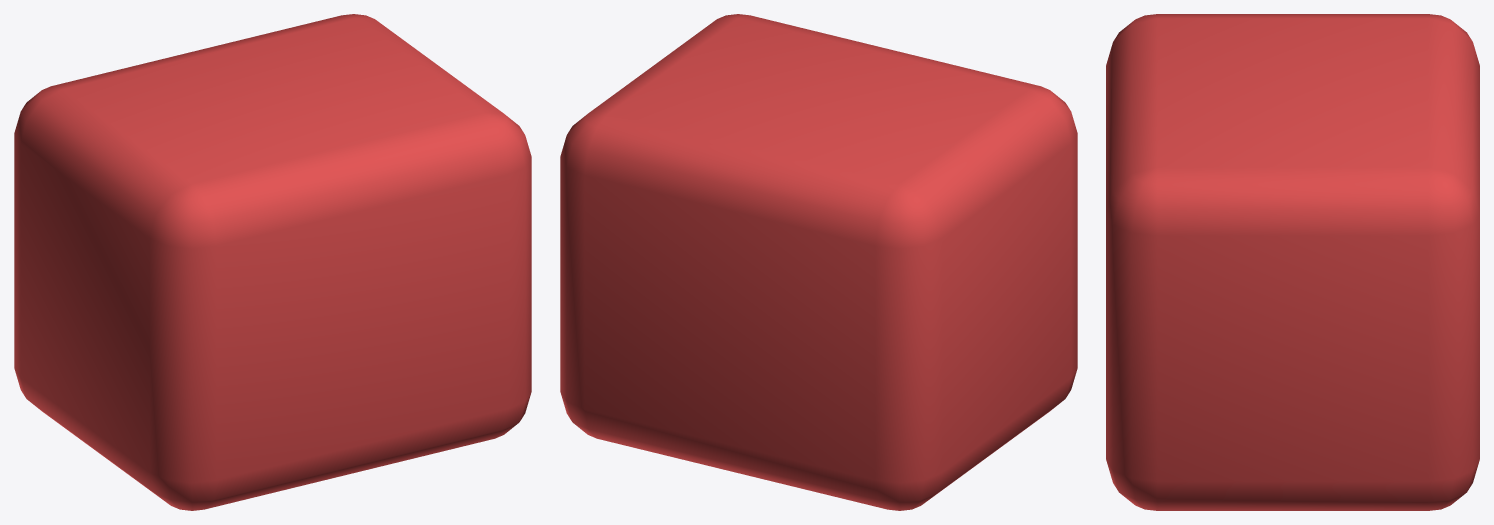
Rendered from FCube.FBX.
3 views of the same model, side by side, from view 1: azimuth 30°, elevation 25°; view 2: azimuth 150°, elevation 25°; view 3: azimuth 270°, elevation 25° (orthographic). The views are drawn at different scales.
Visible parts, largest first — view 1: ChamferBox001; view 2: ChamferBox001; view 3: ChamferBox001.
Boxes of the visible parts, x1,y1,x2,y2 form: ChamferBox001: (14,14,531,510); ChamferBox001: (560,14,1077,510); ChamferBox001: (1106,14,1479,510).
Bounding box in the file's own units: 2.39 × 1.96 × 1.96.
